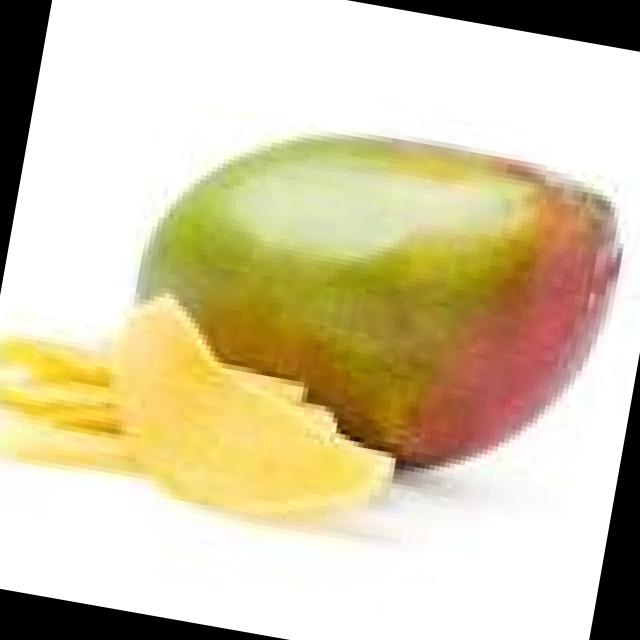mango: (141, 136, 619, 464), (113, 296, 387, 516)
